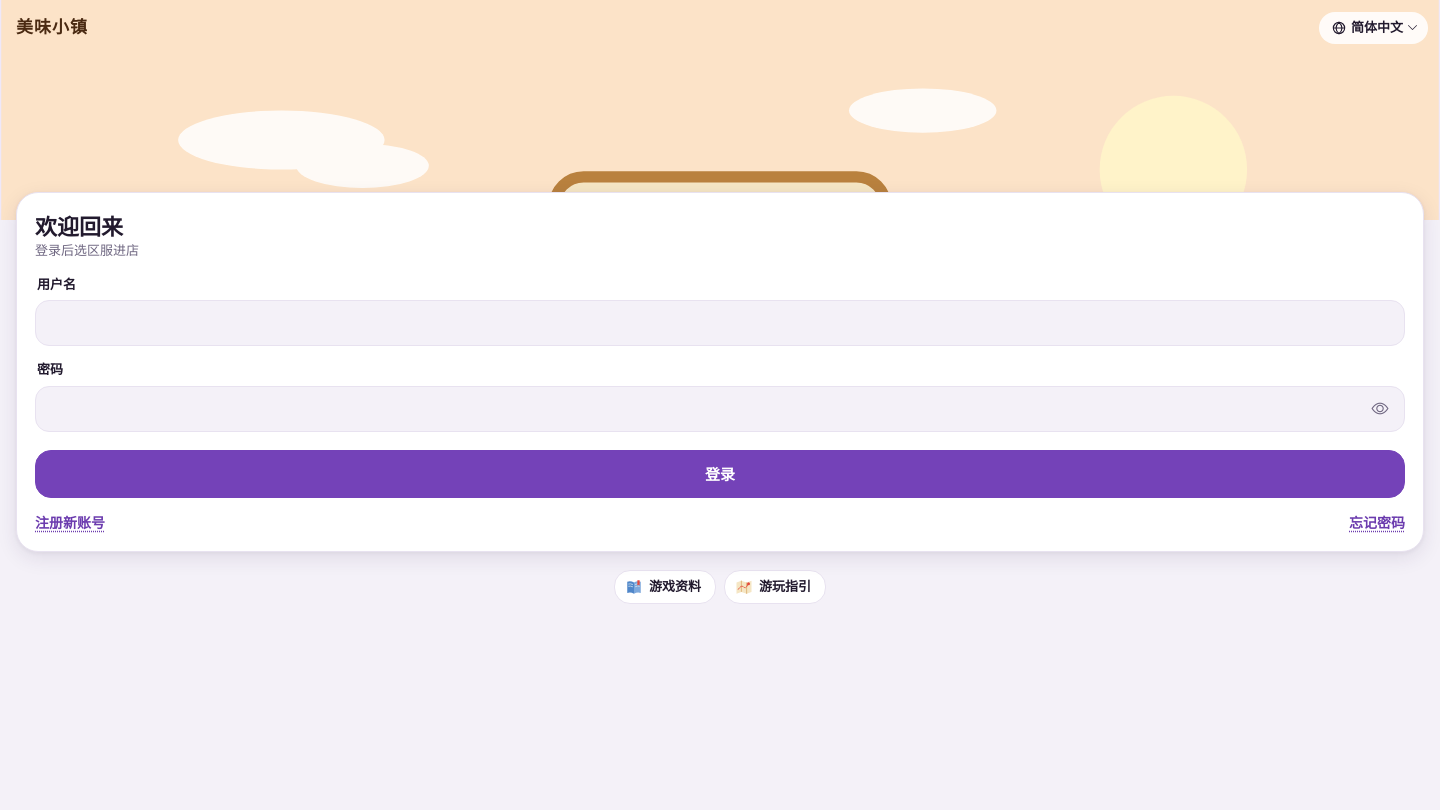
it: LoginView › 没有顶栏：头图在最上面，右上是语言胶囊，点开语言面板
expect the element with test id "auth-scene" is shown: met, box left=0, top=0, right=1439, bottom=220
Click the button with test id "lang-chip".
click(1374, 28)  # box left=1319, top=12, right=1428, bottom=44
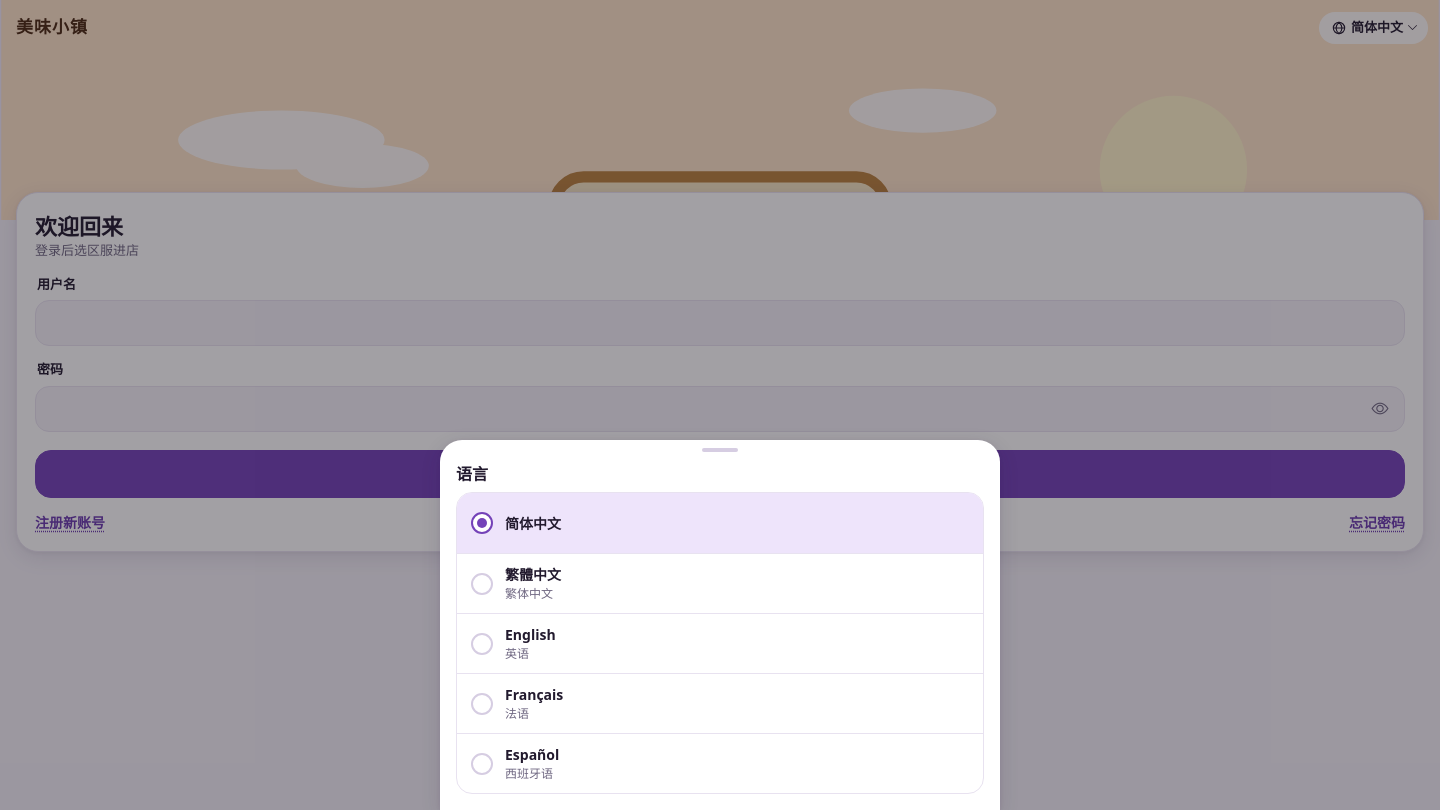
expect the radio button with test id "lang-en" is shown: met, box left=457, top=613, right=983, bottom=673
